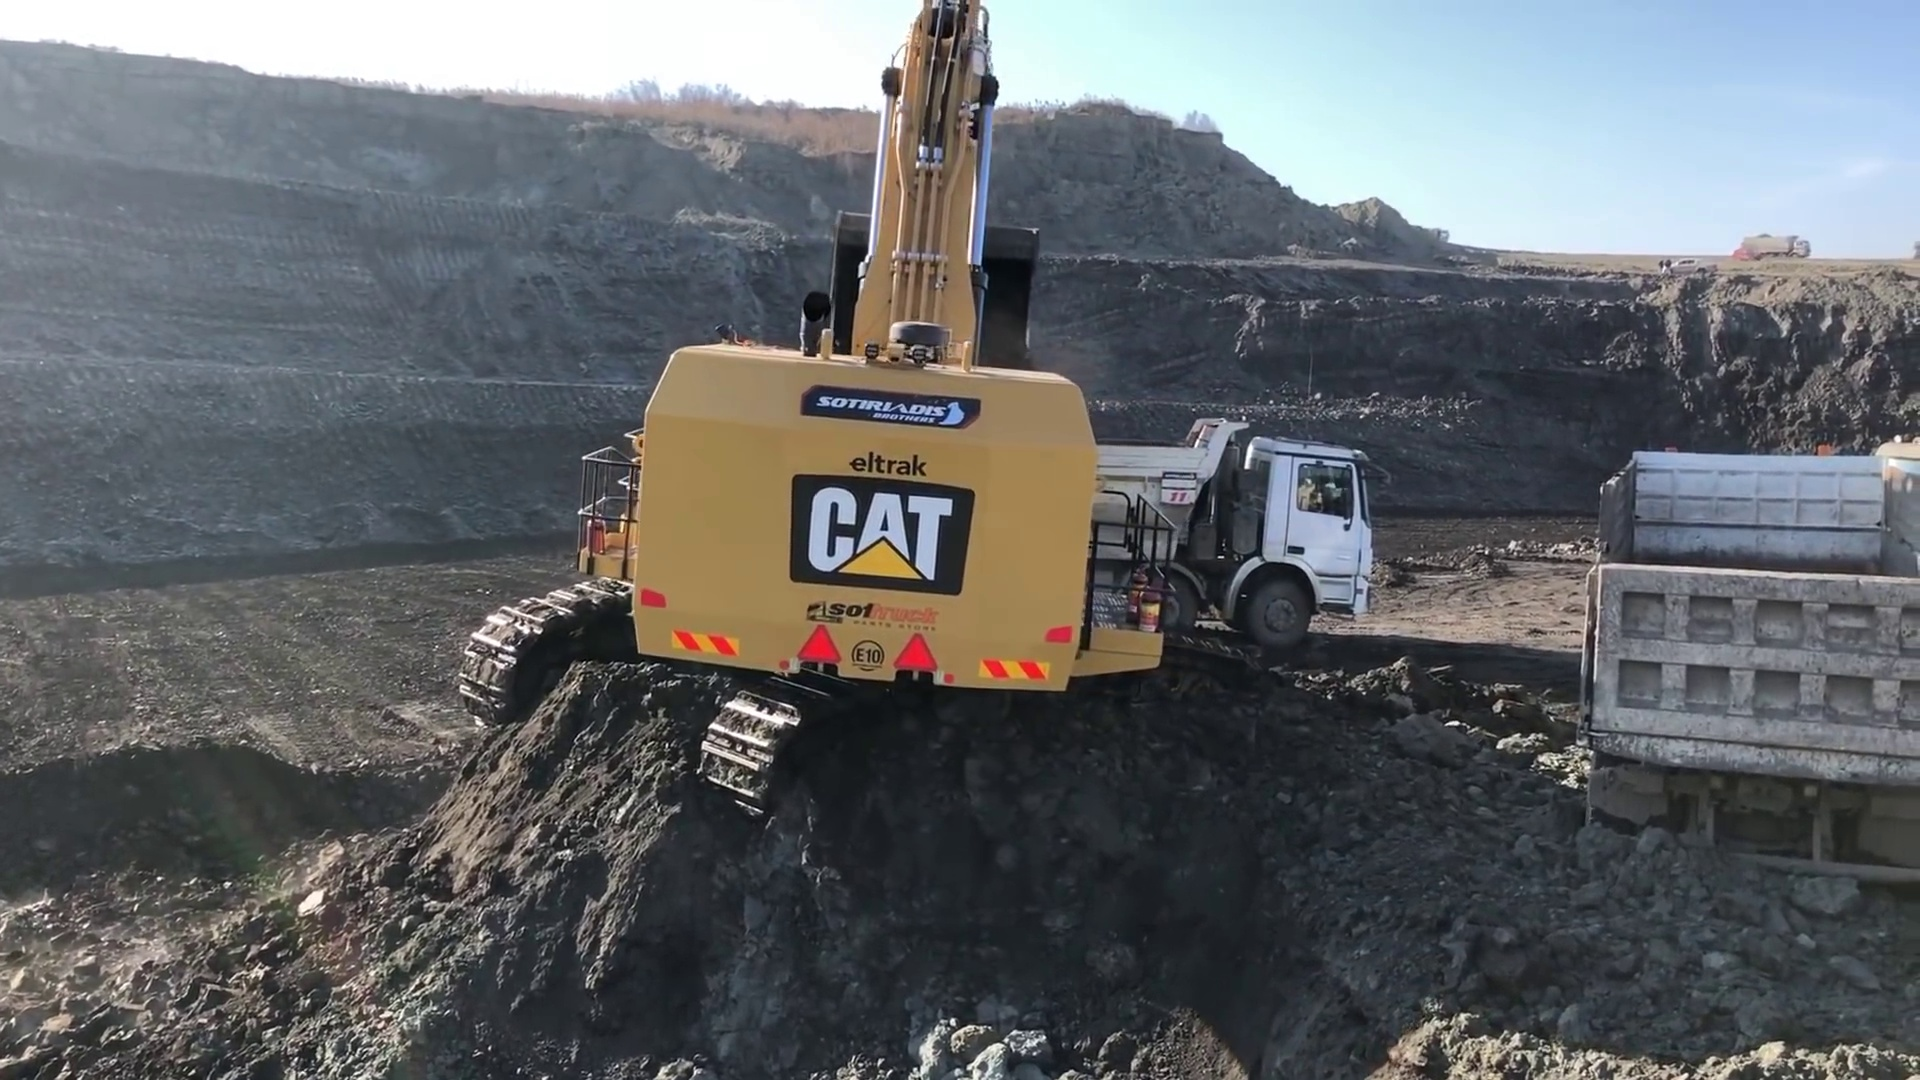excavator: (459, 4, 1179, 843)
truck: (1530, 446, 1920, 895), (853, 411, 1378, 661), (1739, 237, 1821, 273)
